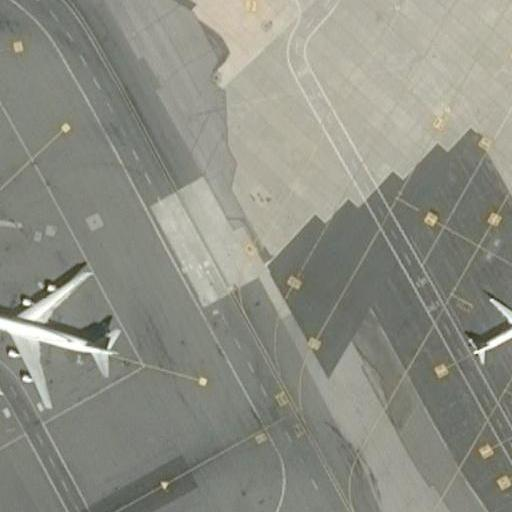Aircraft: (0, 249, 127, 408), (466, 286, 512, 363)
